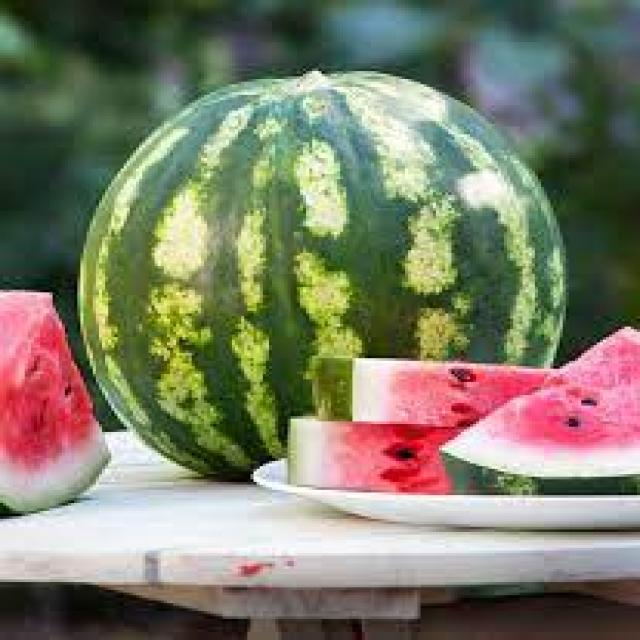watermelon: (74, 66, 566, 479), (436, 324, 637, 492), (0, 287, 111, 516)
